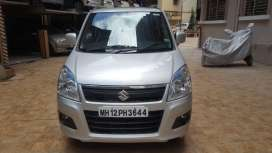nameplate: (99, 107, 148, 117)
